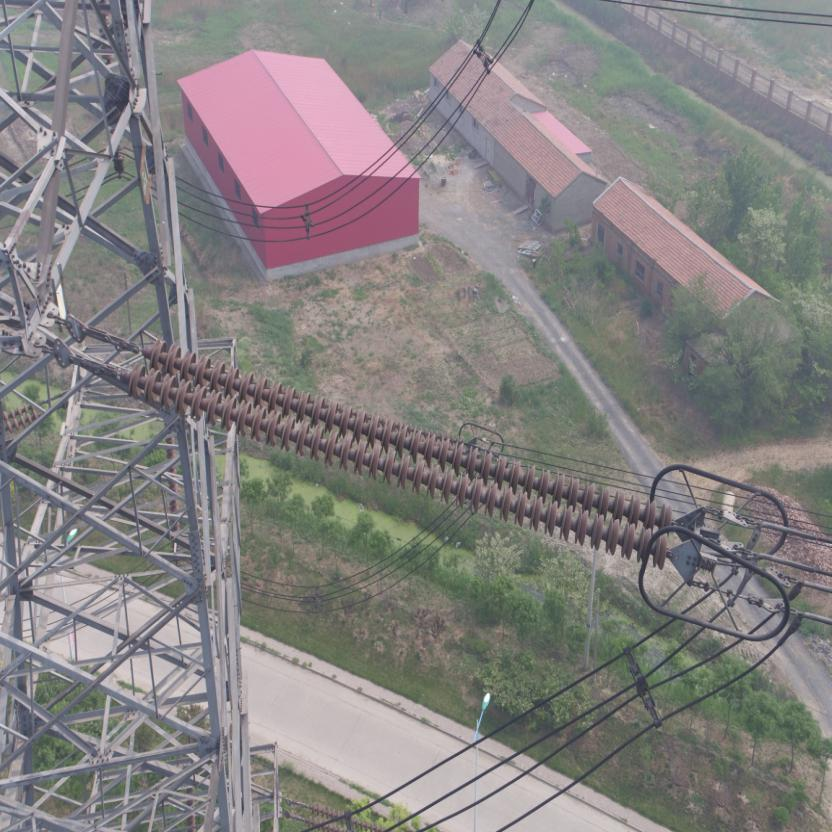insulator: (94, 330, 684, 575)
